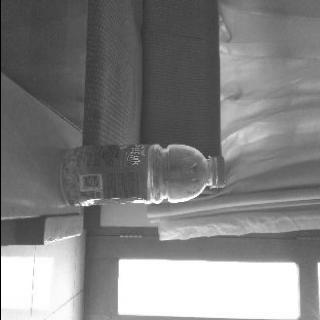plastic_bottles: (55, 140, 228, 212)
